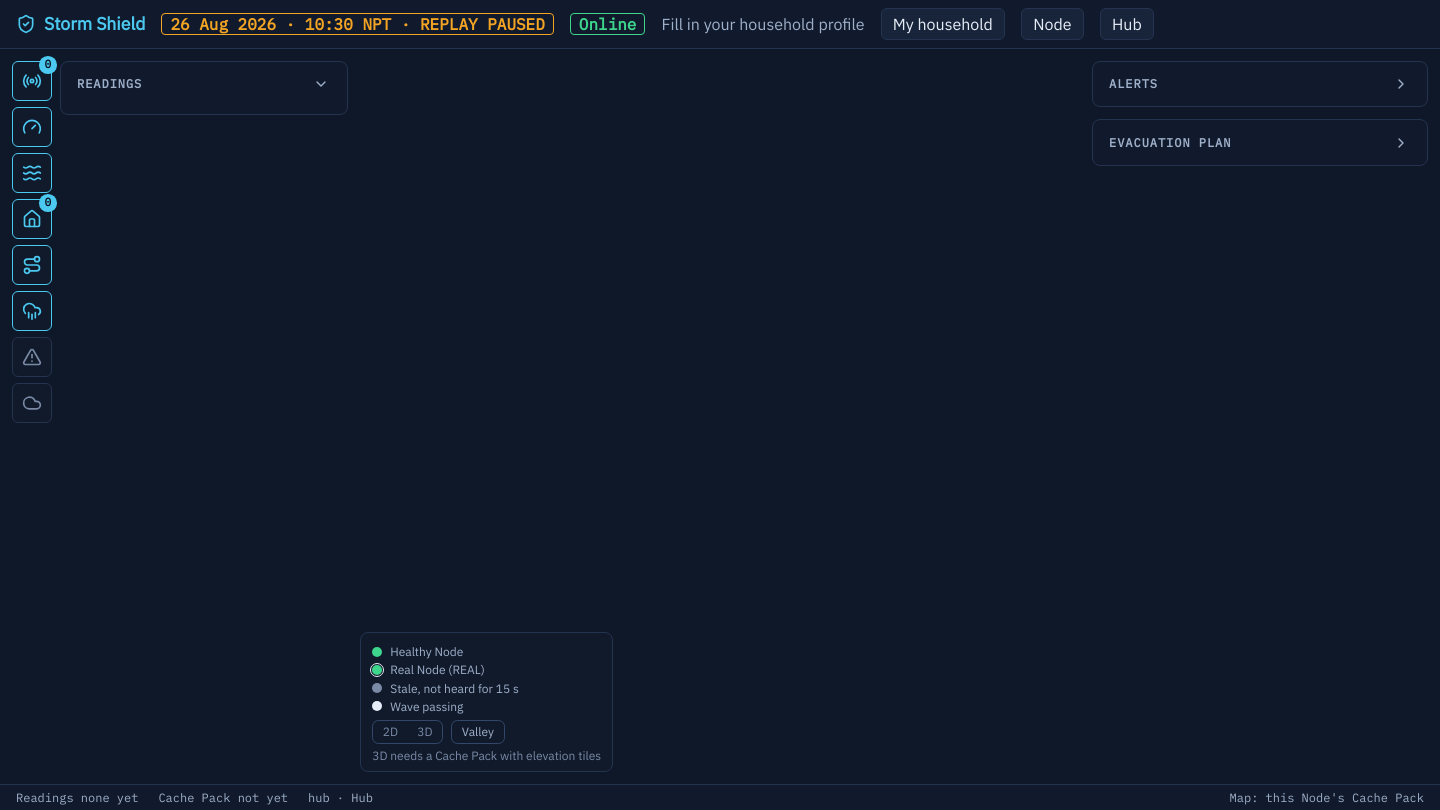
Test: Resume at the end of the replay shows why the Hub refused it
Click the button "Hub": (1127, 24) [1100,8,1154,40]
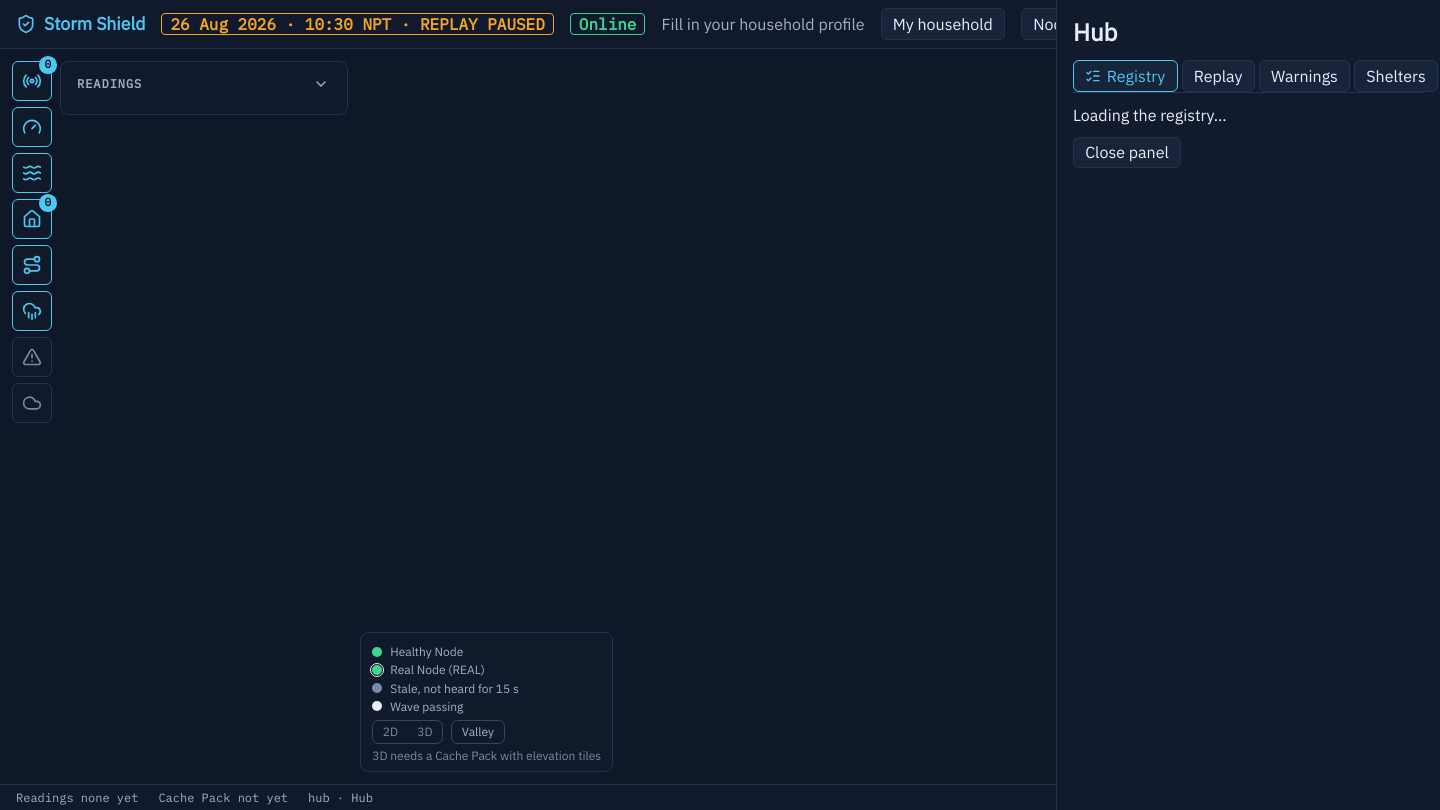
Click the tab "Replay": (1218, 76) [1182,60,1255,92]
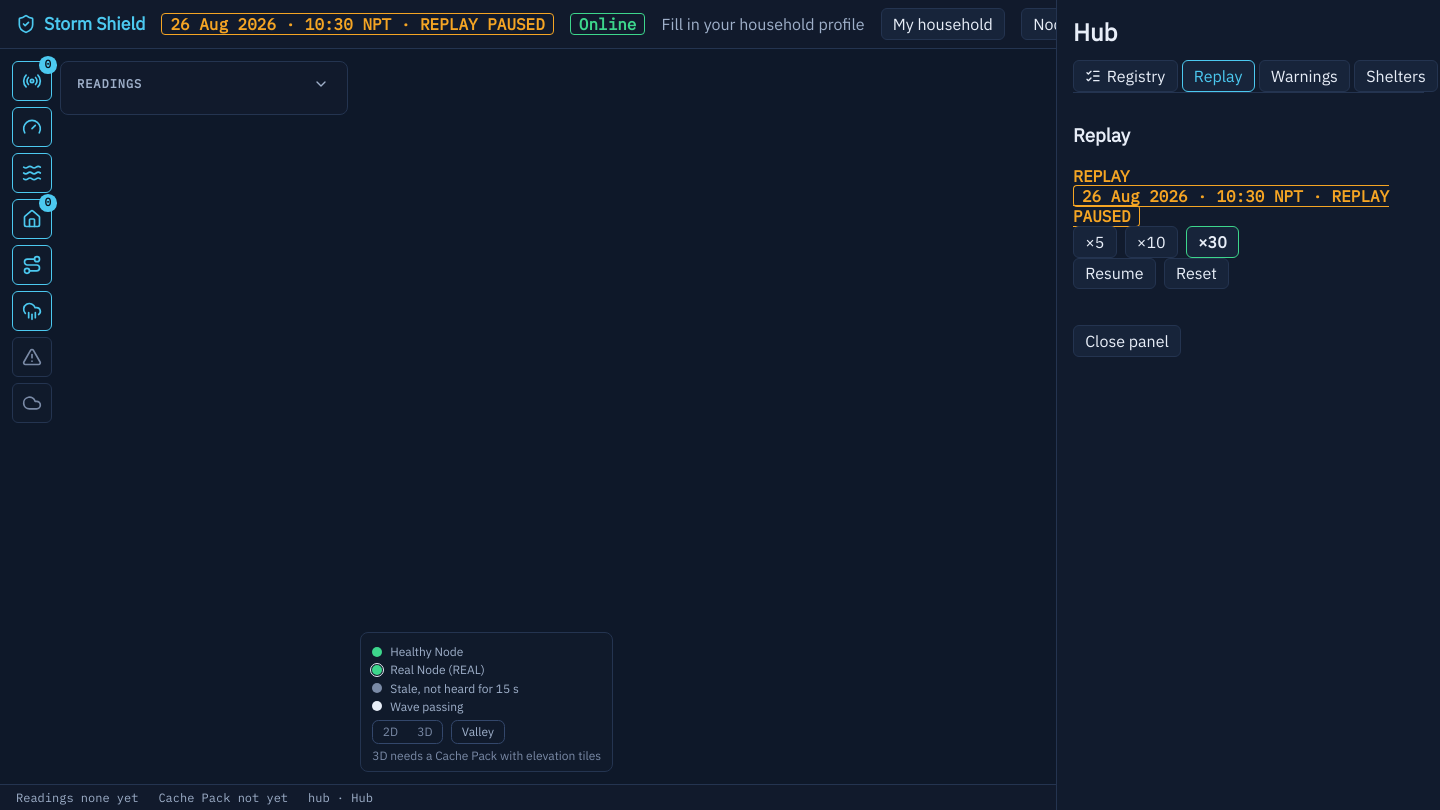
Click the button "Resume": (1114, 273) [1073,258,1156,289]
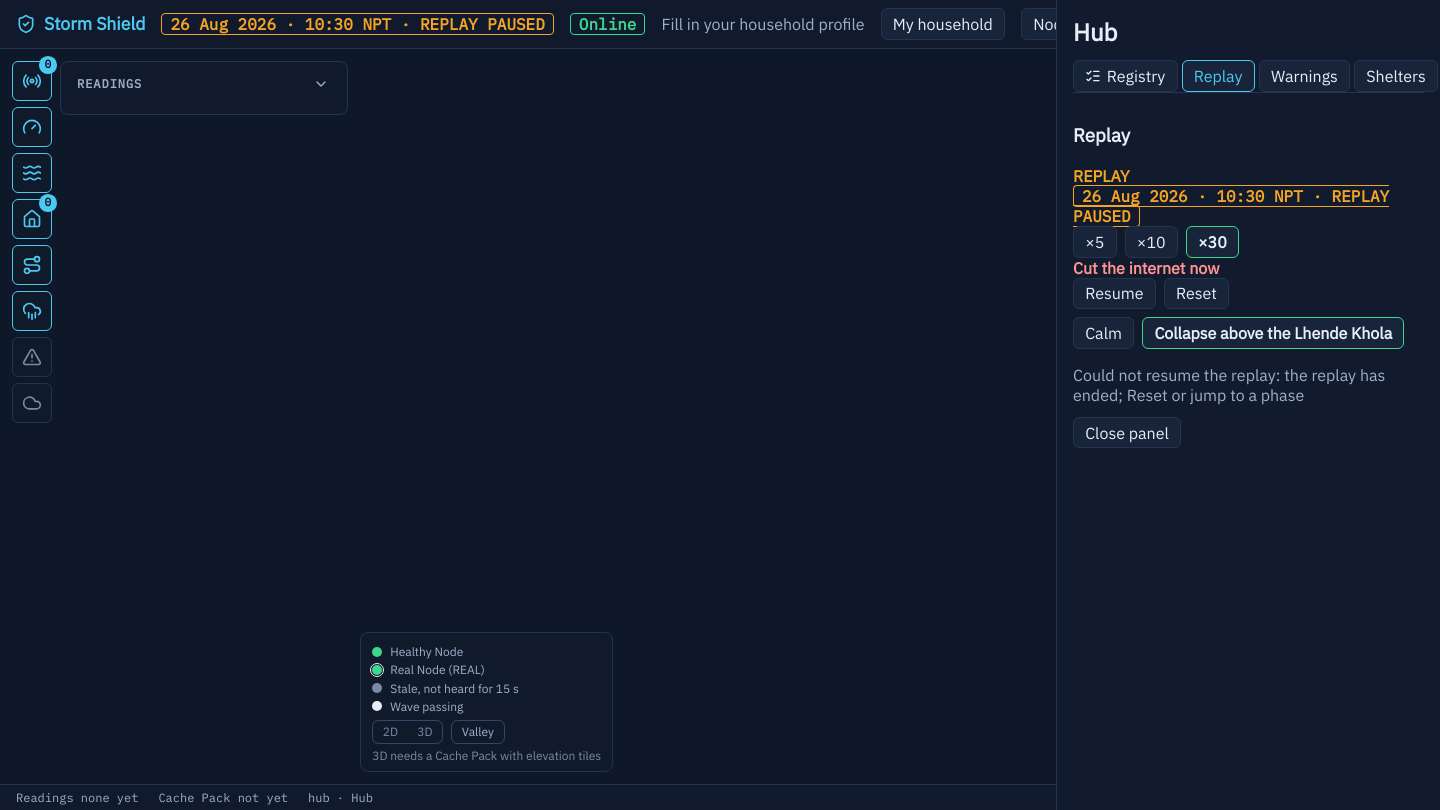
Result: the message "Could not resume the replay: the replay has ended; Reset or jump to a phase" is shown at [1073,365,1424,405]
